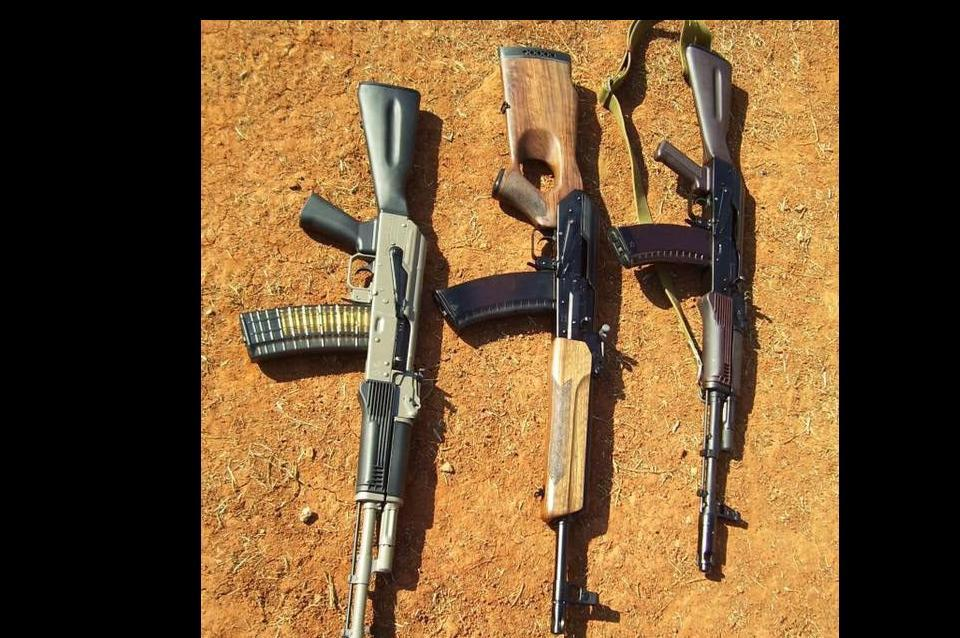larga: (239, 79, 430, 638), (437, 44, 613, 638), (606, 44, 762, 574)
